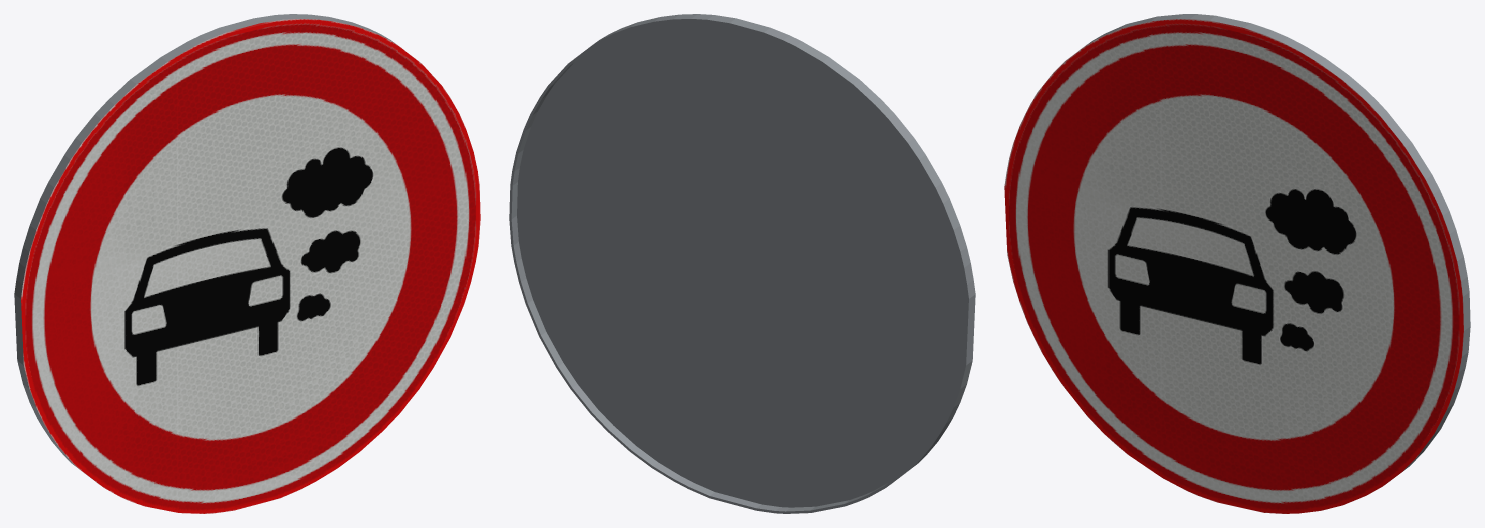
3 renders of one model, left to right at view 1: azimuth 30°, elevation 25°; view 2: azimuth 150°, elevation 25°; view 3: azimuth 330°, elevation 25°, orthographic.
Visible parts, largest first — view 1: cat_0a1be3df601f83ea; view 2: cat_0a1be3df601f83ea; view 3: cat_0a1be3df601f83ea.
Part boxes in pixels (x1,y1,x2,y2): cat_0a1be3df601f83ea: (14, 14, 480, 513); cat_0a1be3df601f83ea: (509, 14, 975, 513); cat_0a1be3df601f83ea: (1004, 14, 1470, 513).
Size of the model in its own units: 0.6 by 0.015 by 0.6.
2 materials, 1 textured.
